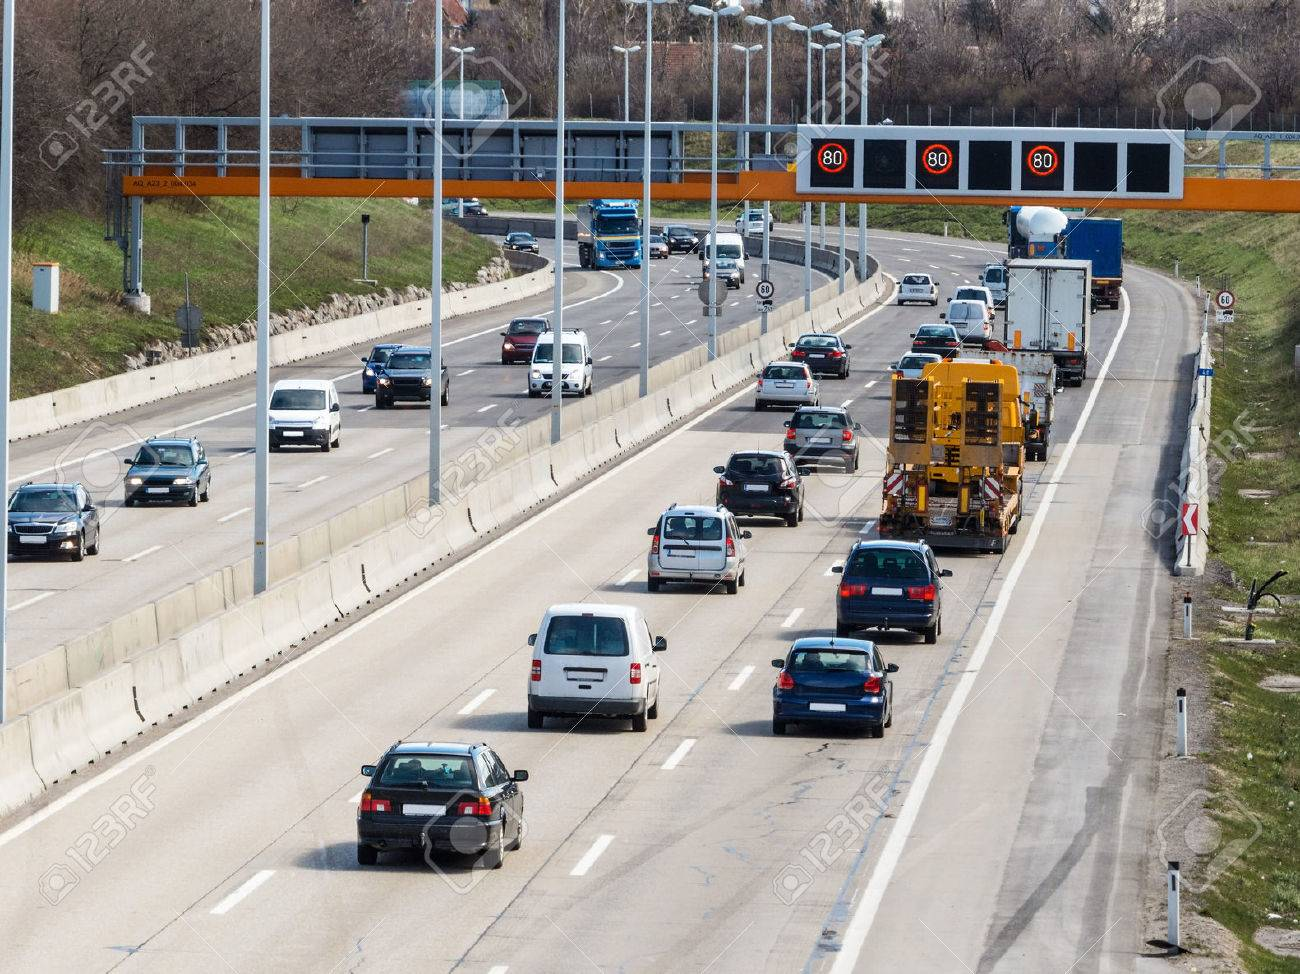Car: (362, 741, 529, 861), (529, 604, 660, 721), (772, 636, 891, 729), (837, 541, 942, 639), (1005, 261, 1087, 381), (6, 483, 105, 560), (654, 506, 742, 590), (261, 382, 344, 455), (716, 450, 803, 520), (130, 439, 213, 506), (785, 410, 856, 473), (574, 203, 641, 267), (378, 355, 448, 410), (530, 336, 590, 394), (750, 363, 819, 412), (503, 316, 555, 366), (794, 335, 844, 375), (948, 299, 993, 341), (895, 274, 940, 305), (914, 327, 959, 354), (702, 258, 739, 287)
